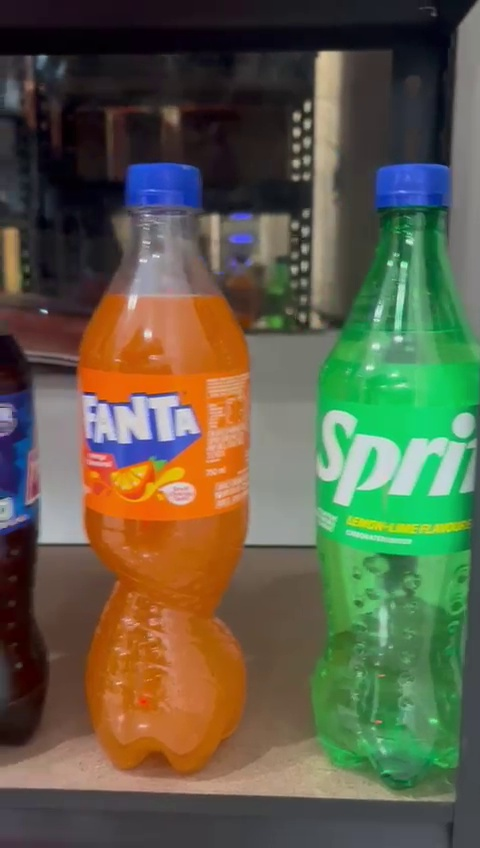Fanta: (72, 160, 262, 768)
Sprit: (319, 150, 480, 788)
